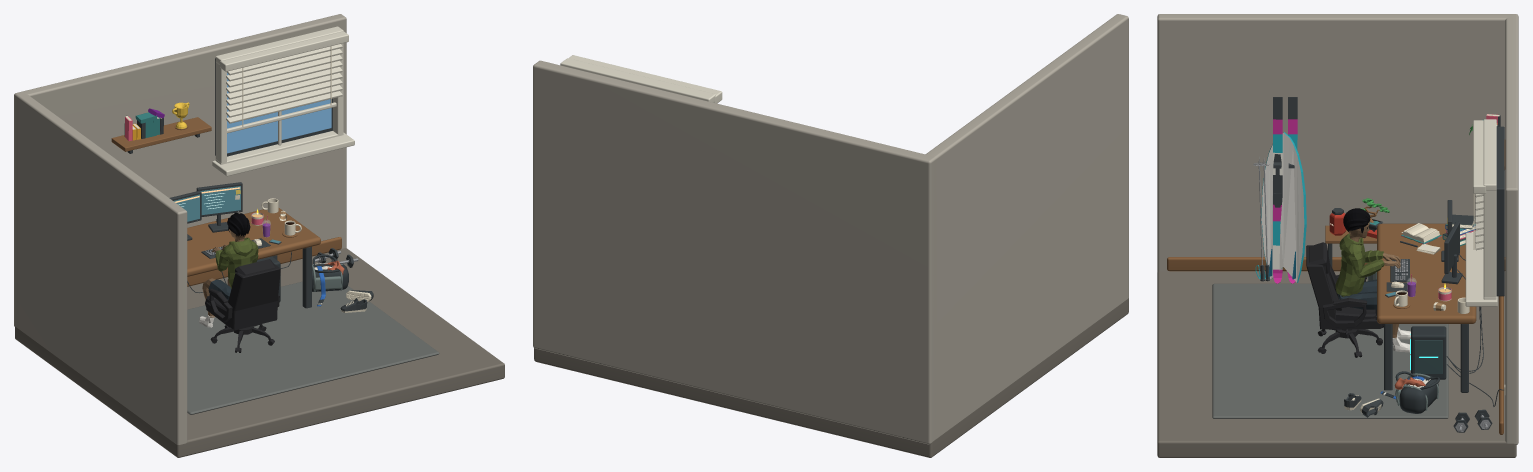
The model's file is corner-desk.glb.
3 renders of one model, left to right at view 1: azimuth 30°, elevation 25°; view 2: azimuth 150°, elevation 25°; view 3: azimuth 270°, elevation 25°, orthographic. The views are drawn at different scales.
Visible parts, largest first — view 1: Left_wall, Back_wall, Floor, Playful_rug, Blind_slats, Chair_executive, Desk_top, Window_dusk_pane, Window_sill, Window_rails, Window_sides, Blind_header (+8 smaller); view 2: Back_wall, Left_wall, Floor, Window_rails, Blind_header; view 3: Left_wall, Floor, Playful_rug, Back_wall, Desk_top, Surfboard, Chair_executive, Ski_set, Body, Left_baseboard, Window_recess, Window_sides (+16 smaller).
Part boxes in pixels (x1,y1,x2,y2): Left_wall: (15,92,187,444); Back_wall: (14,14,346,328); Floor: (15,248,504,457); Playful_rug: (187,281,439,414); Blind_slats: (226,44,342,123); Chair_executive: (205,259,280,352); Desk_top: (187,208,320,276); Window_dusk_pane: (227,73,331,153); Window_sill: (212,132,354,176); Window_rails: (215,26,343,164); Window_sides: (215,43,343,163); Blind_header: (220,31,348,71); Back_wall: (533,60,936,444); Left_wall: (925,14,1128,439); Floor: (534,298,1128,457); Window_rails: (560,58,715,102); Blind_header: (569,55,722,103); Left_wall: (1157,14,1513,272); Floor: (1157,271,1516,457); Playful_rug: (1212,283,1448,418); Back_wall: (1505,14,1518,444); Desk_top: (1377,223,1476,323); Surfboard: (1261,132,1306,282); Chair_executive: (1306,242,1383,357); Ski_set: (1253,97,1297,283); Body: (1335,233,1384,296); Left_baseboard: (1167,257,1505,271); Window_recess: (1496,126,1504,296); Window_sides: (1483,191,1496,297).
Size of the model in its own units: 4.4 by 3.15 by 3.82.
